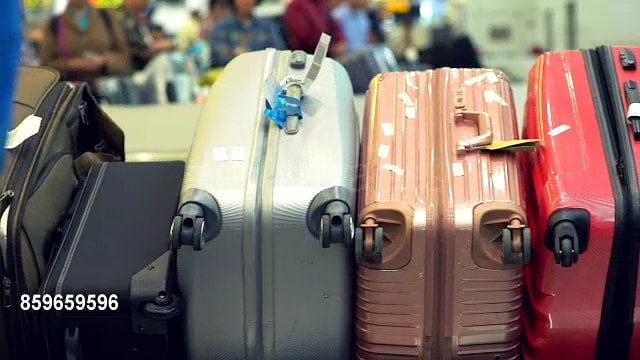baggage: (168, 56, 374, 360), (355, 66, 532, 360), (519, 43, 640, 360), (2, 58, 99, 360), (55, 158, 192, 360)
